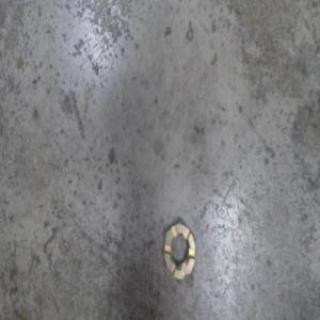Nuttrack_idkeyframe: (162, 216, 196, 283)
